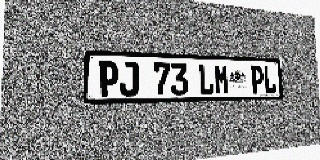3: (171, 63, 188, 95)
7: (153, 62, 171, 96)
J: (119, 61, 138, 96)
L: (198, 64, 214, 95), (263, 66, 276, 93)
M: (214, 64, 229, 94)
P: (98, 61, 119, 97), (250, 65, 264, 94)
